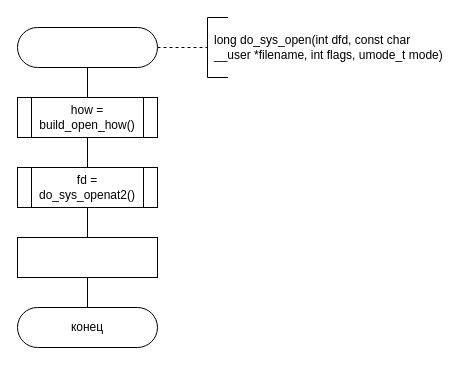
Image size: 470x365. Some labels were removed from this diagram. The shapes that lost their labels are listed below. From the top down, each one's centre as x and y in pixels, then its label:
At point (87, 47): "начало".
At point (87, 257): "return fd".
